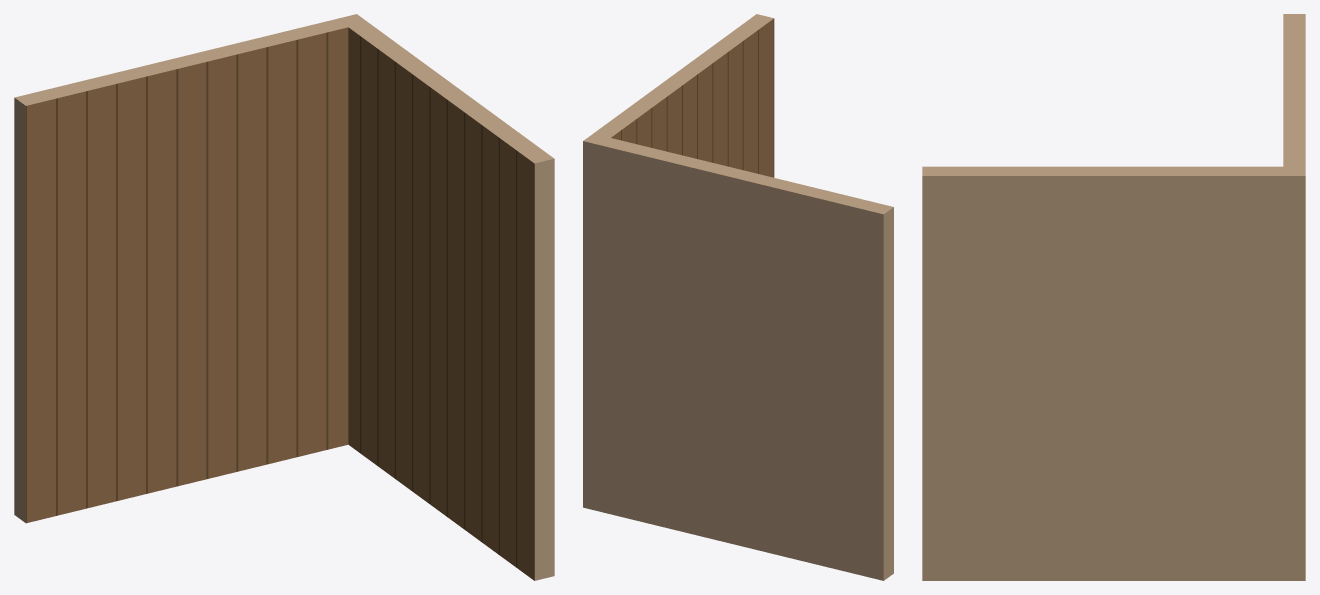
File: Wall2_C9_06.fbx
3 views of the same model, side by side, from view 1: azimuth 30°, elevation 25°; view 2: azimuth 150°, elevation 25°; view 3: azimuth 270°, elevation 25° (orthographic). The views are drawn at different scales.
Parts seen in each view (by area): view 1: Wall2_C9_06; view 2: Wall2_C9_06; view 3: Wall2_C9_06.
Part boxes in pixels (left/top/right/bottom): Wall2_C9_06: left=14, top=14, right=554, bottom=580; Wall2_C9_06: left=583, top=14, right=893, bottom=580; Wall2_C9_06: left=922, top=14, right=1305, bottom=580.
Size of the model in its own units: 258 by 300 by 258.
